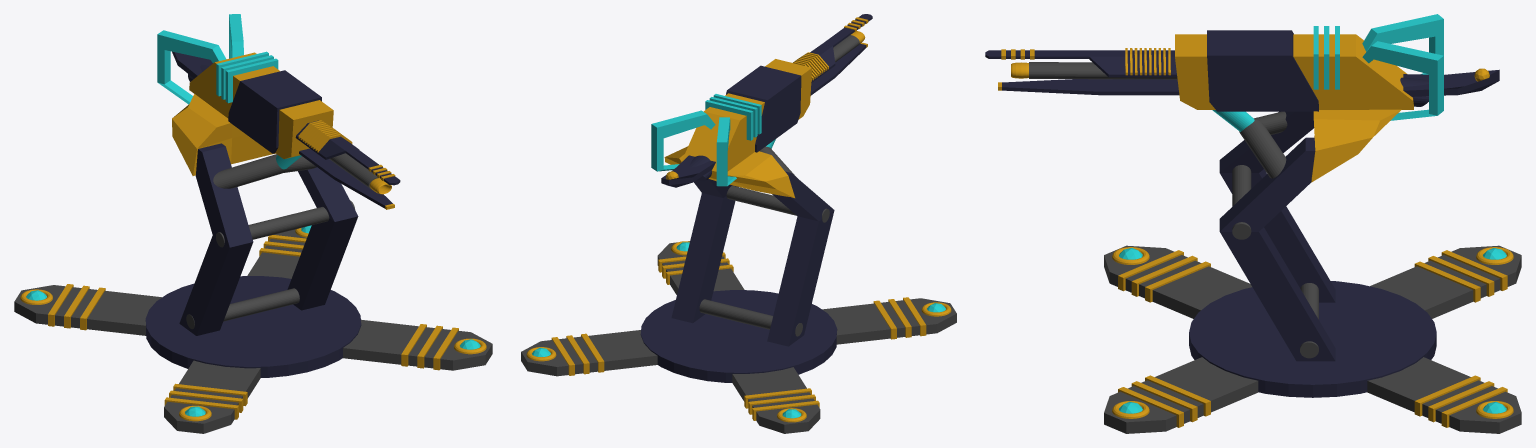
Rendered from Turm 9.fbx.
3 views of the same model, side by side, from view 1: azimuth 30°, elevation 25°; view 2: azimuth 150°, elevation 25°; view 3: azimuth 270°, elevation 25° (orthographic). The views are drawn at different scales.
Parts seen in each view (by area): view 1: Cube, Cylinder; view 2: Cube, Cylinder; view 3: Cube, Cylinder.
Boxes of the visible parts, x1,y1,x2,y2 form: Cube: [157, 14, 400, 335]; Cylinder: [14, 225, 492, 433]; Cube: [651, 14, 872, 346]; Cylinder: [521, 241, 956, 433]; Cube: [985, 14, 1499, 361]; Cylinder: [1104, 245, 1521, 433].
Size of the model in its own units: 438 by 364 by 563.
